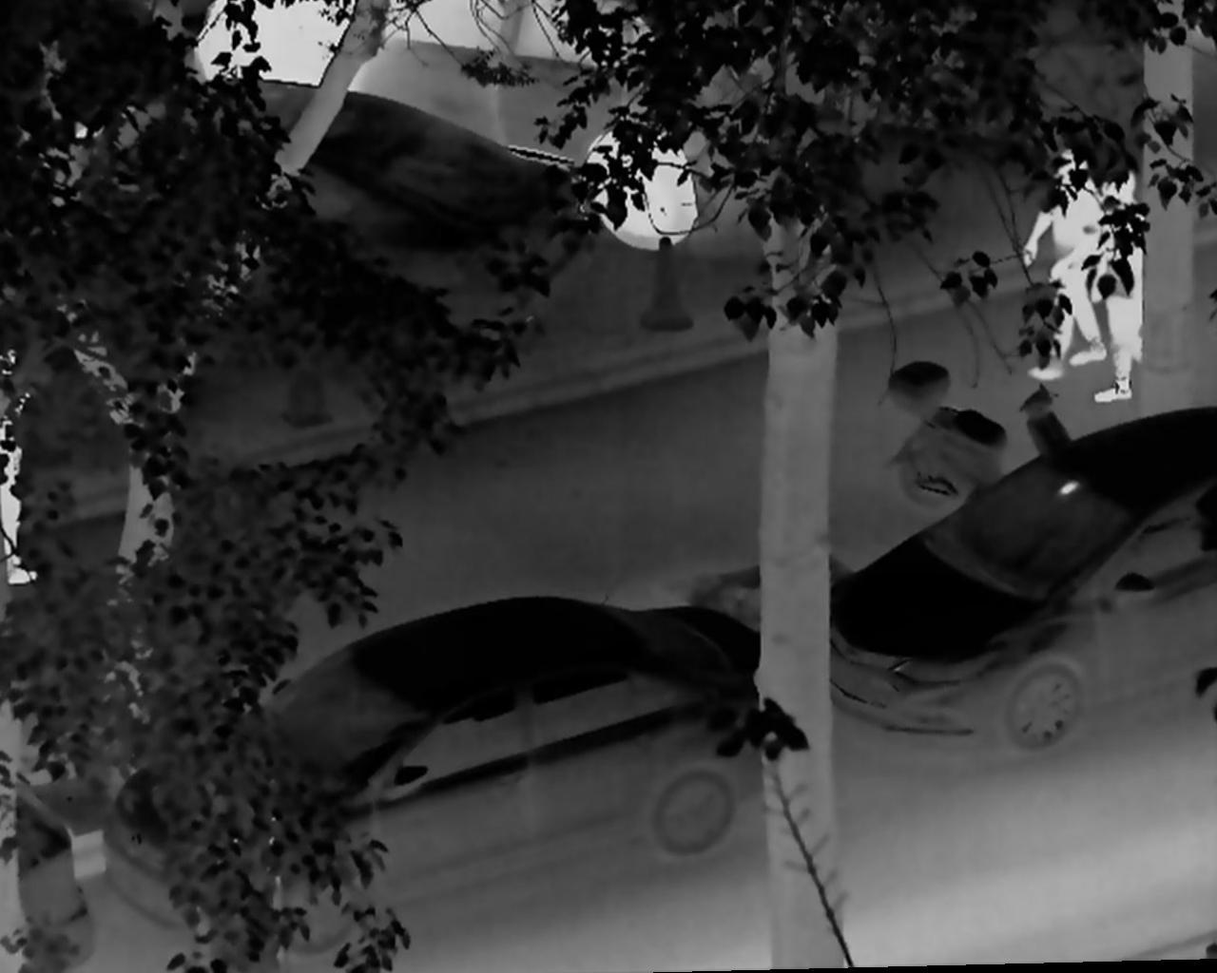person: (1021, 117, 1113, 386), (1091, 159, 1168, 404), (3, 339, 45, 591)
